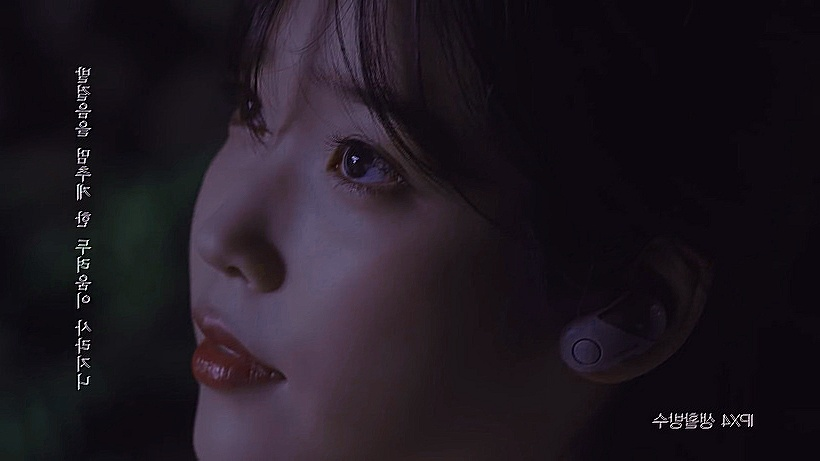earphone: (559, 236, 716, 386)
